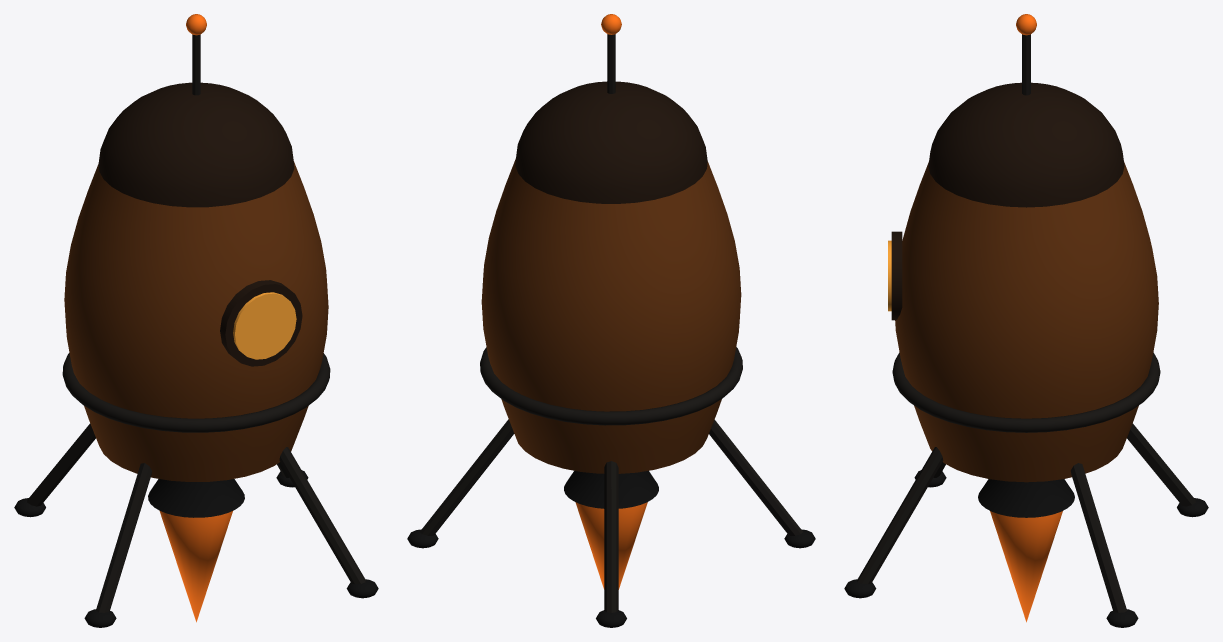
The model's file is Rocket_21_BronzeLander.obj.
3 renders of one model, left to right at view 1: azimuth 30°, elevation 25°; view 2: azimuth 150°, elevation 25°; view 3: azimuth 270°, elevation 25°, orthographic.
Visible parts, largest first — view 1: R21_Body, R21_Nose, R21_Ring_1, R21_Flame_1, R21_Window_1, R21_Nozzle_1, R21_WindowFrame_1, R21_Leg_4, R21_Leg_3, R21_Leg_2, R21_Antenna; view 2: R21_Body, R21_Nose, R21_Ring_1, R21_Nozzle_1, R21_Flame_1, R21_Leg_2, R21_Leg_1, R21_Leg_3; view 3: R21_Body, R21_Nose, R21_Ring_1, R21_Flame_1, R21_Nozzle_1, R21_Leg_4, R21_Leg_1, R21_Leg_2, R21_WindowFrame_1, R21_Antenna.
Boxes of the visible parts, x1,y1,x2,y2 form: R21_Body: (64, 161, 328, 481); R21_Nose: (98, 82, 294, 207); R21_Ring_1: (62, 353, 330, 432); R21_Flame_1: (159, 511, 232, 622); R21_Window_1: (233, 292, 296, 359); R21_Nozzle_1: (148, 479, 244, 517); R21_WindowFrame_1: (220, 280, 302, 366); R21_Leg_4: (279, 447, 365, 583); R21_Leg_3: (96, 463, 151, 612); R21_Leg_2: (27, 423, 95, 506); R21_Antenna: (192, 34, 200, 95); R21_Body: (481, 158, 741, 473); R21_Nose: (515, 81, 707, 203); R21_Ring_1: (480, 347, 742, 425); R21_Nozzle_1: (564, 470, 658, 508); R21_Flame_1: (575, 502, 647, 589); R21_Leg_2: (604, 461, 618, 612); R21_Leg_1: (420, 419, 514, 535); R21_Leg_3: (709, 419, 802, 535); R21_Body: (895, 162, 1158, 482); R21_Nose: (928, 82, 1124, 207); R21_Ring_1: (892, 352, 1160, 432); R21_Flame_1: (990, 511, 1062, 622); R21_Nozzle_1: (978, 479, 1074, 517); R21_Leg_4: (857, 447, 943, 583); R21_Leg_1: (1070, 463, 1126, 612); R21_Leg_2: (1127, 423, 1195, 506); R21_WindowFrame_1: (891, 231, 902, 320); R21_Antenna: (1022, 34, 1030, 95).
Size of the model in its own units: 4.09 by 7.52 by 4.09.
